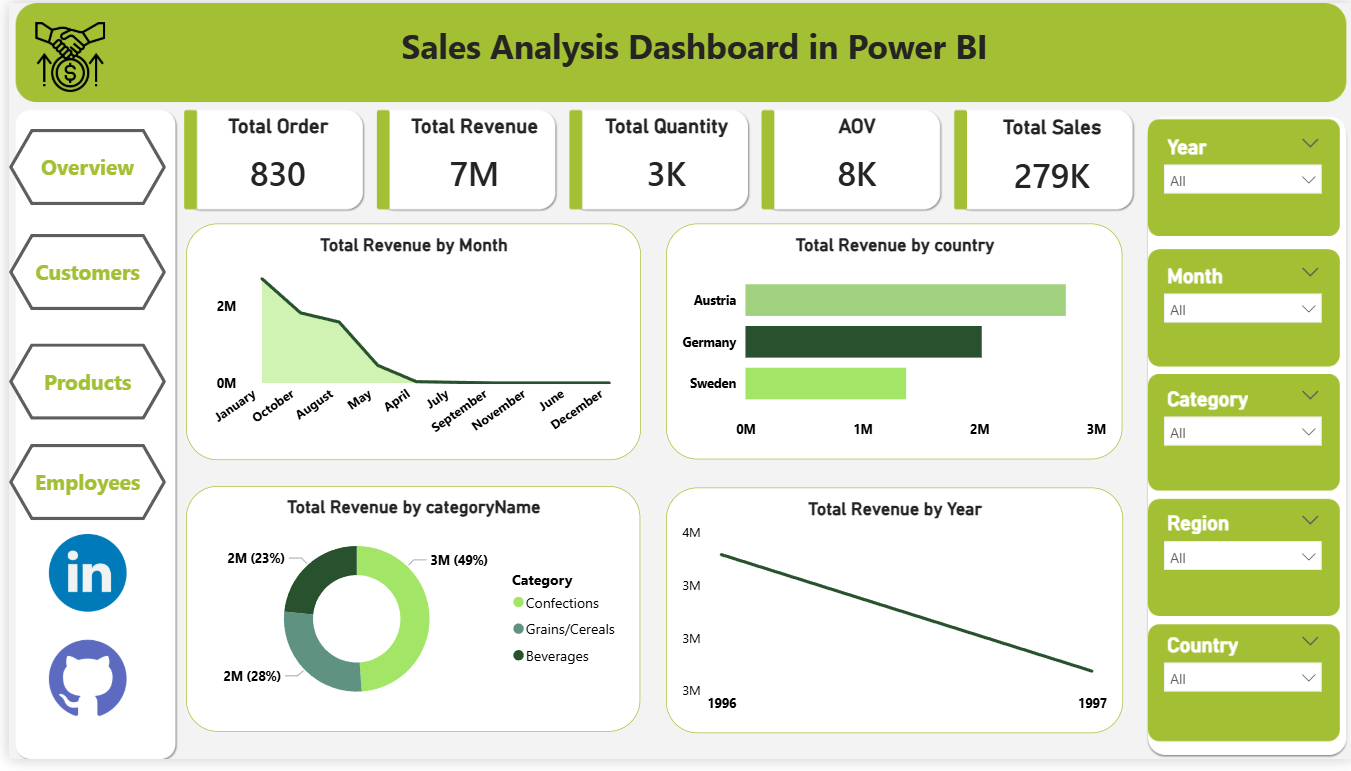

Layout of this report page (visuals, bound fields, positions):
{"tool":"powerbi","page":{"name":"Page 1","canvas":[1280,720],"ordinal":0},"visuals":[{"type":"textbox","box":[247.3,12.6,811.2,78.8],"z":0},{"type":"actionButton","box":[0,119.7,149.6,72.5],"z":1000},{"type":"actionButton","box":[0,220.5,149.6,72.5],"z":2000},{"type":"actionButton","box":[0,324.5,149.6,72.5],"z":3000},{"type":"actionButton","box":[0,420.5,149.6,72.5],"z":4000},{"type":"image","box":[20.5,505.6,110.3,74],"z":5000},{"type":"image","box":[20.5,606.4,110.3,74],"z":6000},{"type":"slicer","fields":{"Values":["Dates.Year"]},"box":[1090,119.7,170.1,100.8],"z":7000},{"type":"slicer","fields":{"Values":["Dates.Month"]},"box":[1090,242.6,170.1,100.8],"z":8000},{"type":"slicer","fields":{"Values":["customers.region"]},"box":[1090,478.8,170.1,100.8],"z":9000},{"type":"slicer","fields":{"Values":["categories.categoryName"]},"box":[1090,360.7,170.1,100.8],"z":10000},{"type":"slicer","fields":{"Values":["customers.country"]},"box":[1090,593.8,170.1,100.8],"z":11000},{"type":"cardVisual","title":"Total Order","fields":{"Data":["_Measures.Total Orders"]},"box":[179.6,105.5,152.8,86.6],"z":12000},{"type":"cardVisual","title":"Total Revenue","fields":{"Data":["_Measures.Total Revenue"]},"box":[367,105.5,152.8,86.6],"z":13000},{"type":"cardVisual","title":"Total Quantity","fields":{"Data":["_Measures.Total Quantity"]},"box":[549.7,105.5,152.8,86.6],"z":14000},{"type":"cardVisual","title":"AOV","fields":{"Data":["_Measures.AOV"]},"box":[730.8,105.5,152.8,86.6],"z":15000},{"type":"cardVisual","title":"Total Sales","fields":{"Data":["_Measures.Total Sales"]},"box":[916.7,107.1,152.8,86.6],"z":16000},{"type":"image","box":[20,17.1,77.1,68.6],"z":17000},{"type":"areaChart","fields":{"Category":["Dates.Month"],"Y":["_Measures.Total Revenue"]},"box":[168.5,209.5,433.1,225.2],"z":18000},{"type":"donutChart","fields":{"Y":["_Measures.Total Revenue"],"Category":["categories.categoryName"]},"box":[168.8,460.6,432.9,234.3],"z":19000},{"type":"barChart","fields":{"Y":["_Measures.Total Revenue"],"Category":["customers.country"]},"box":[625.4,210.5,434.8,224.4],"z":20000},{"type":"lineChart","fields":{"Y":["_Measures.Total Revenue"],"Category":["Dates.Year"]},"box":[625,461,435,234],"z":21000}]}

Visuals, with their boxes in screenshot pixels (x1, y1, x2, y2), scaled from the page's 1280x720 canvas onto the 1351x771 screenshot:
textbox: [261, 13, 1117, 98]
actionButton: [0, 128, 158, 206]
actionButton: [0, 236, 158, 314]
actionButton: [0, 347, 158, 425]
actionButton: [0, 450, 158, 528]
image: [22, 541, 138, 621]
image: [22, 649, 138, 729]
slicer - Dates.Year: [1150, 128, 1330, 236]
slicer - Dates.Month: [1150, 260, 1330, 368]
slicer - customers.region: [1150, 513, 1330, 621]
slicer - categories.categoryName: [1150, 386, 1330, 494]
slicer - customers.country: [1150, 636, 1330, 744]
"Total Order" cardVisual: [190, 113, 351, 206]
"Total Revenue" cardVisual: [387, 113, 549, 206]
"Total Quantity" cardVisual: [580, 113, 741, 206]
"AOV" cardVisual: [771, 113, 933, 206]
"Total Sales" cardVisual: [968, 115, 1129, 207]
image: [21, 18, 102, 92]
areaChart - Dates.Month x _Measures.Total Revenue: [178, 224, 635, 465]
donutChart - _Measures.Total Revenue x categories.categoryName: [178, 493, 635, 744]
barChart - _Measures.Total Revenue x customers.country: [660, 225, 1119, 466]
lineChart - _Measures.Total Revenue x Dates.Year: [660, 494, 1119, 744]
